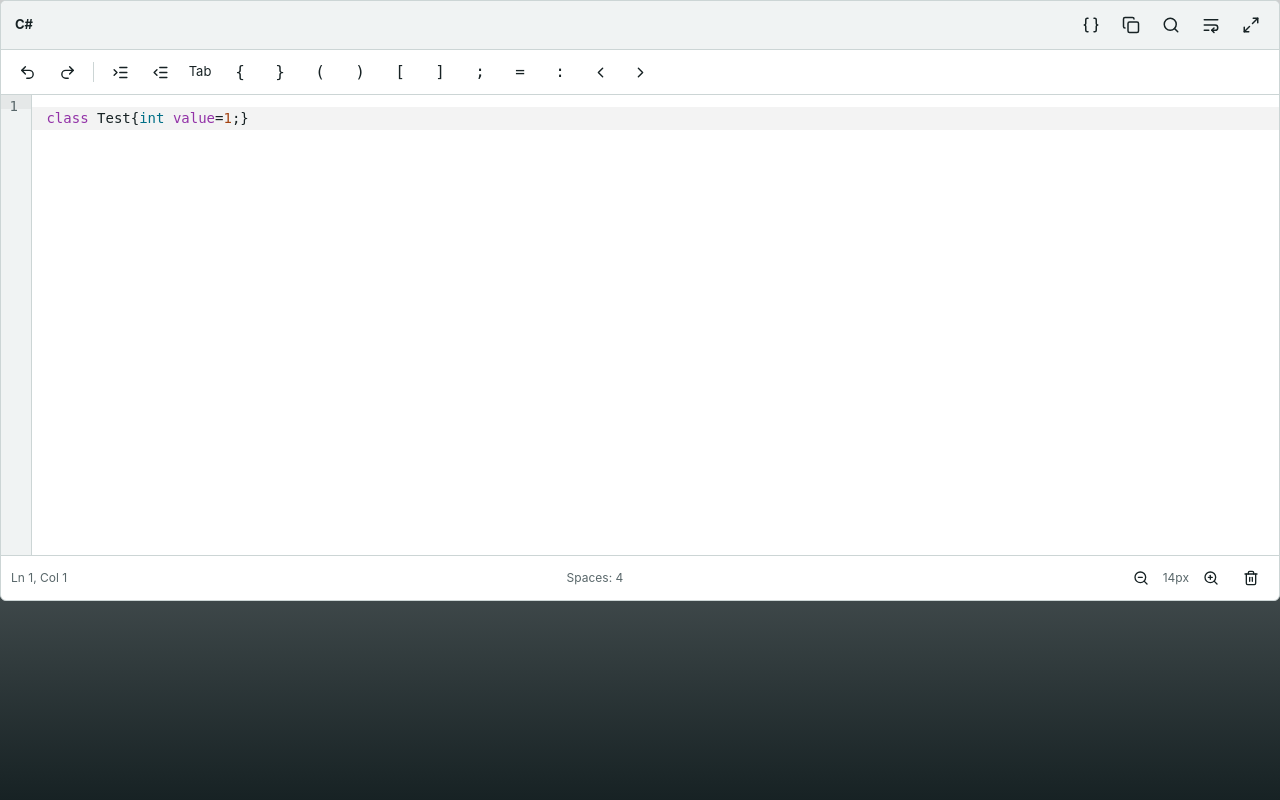
formats through the language formatter and can undo the whole change
Click the button named "Format code" at (1091,25), box [1073, 7, 1109, 43]
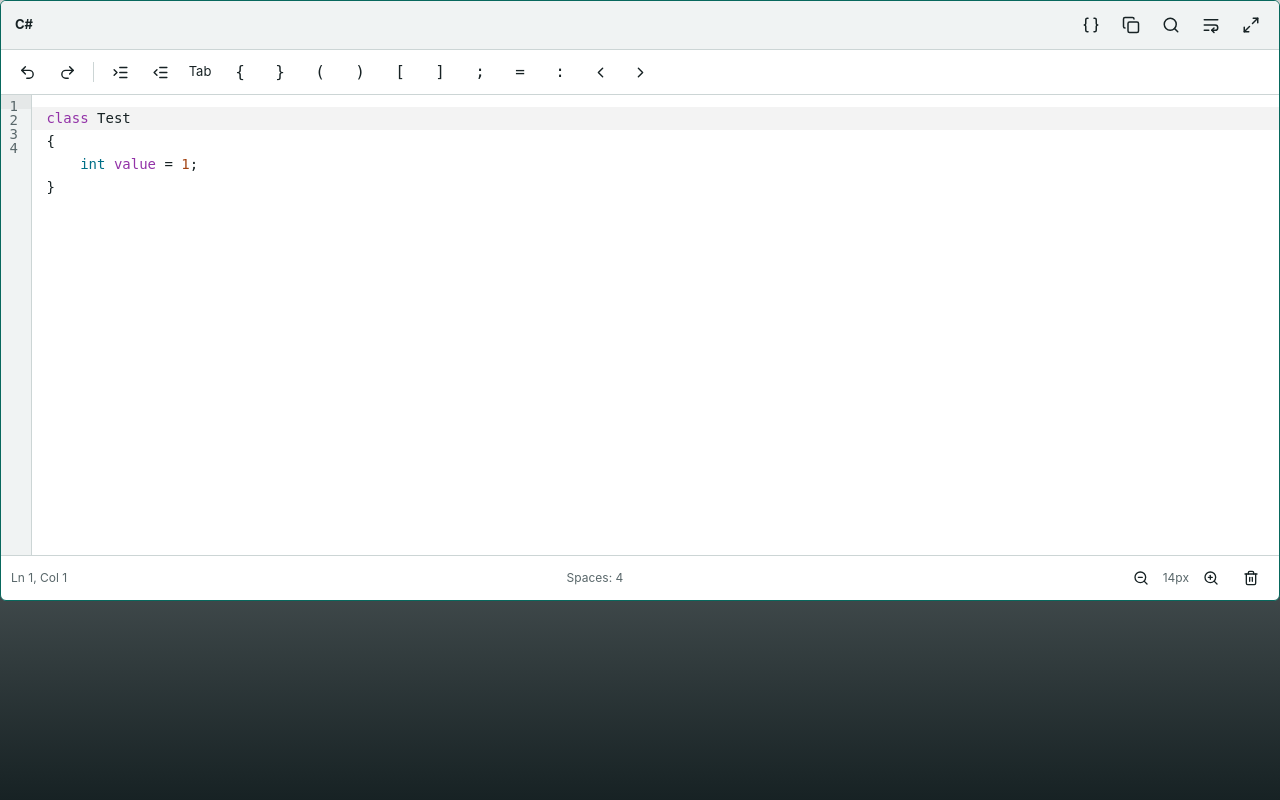
Click the button named "Undo" at (27,72), box [9, 54, 45, 90]
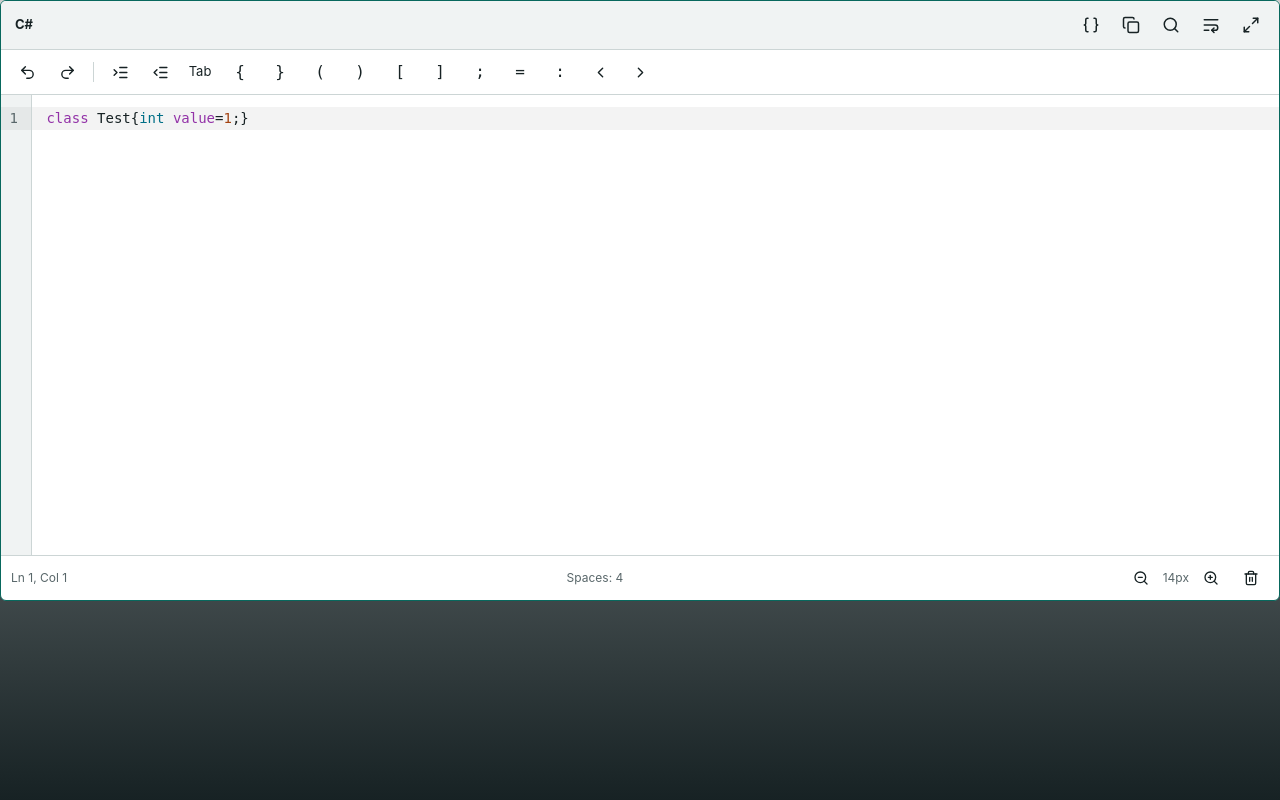
Check: the text box labelled "class Test{int value=1;}" is shown, box [32, 107, 1279, 130]
